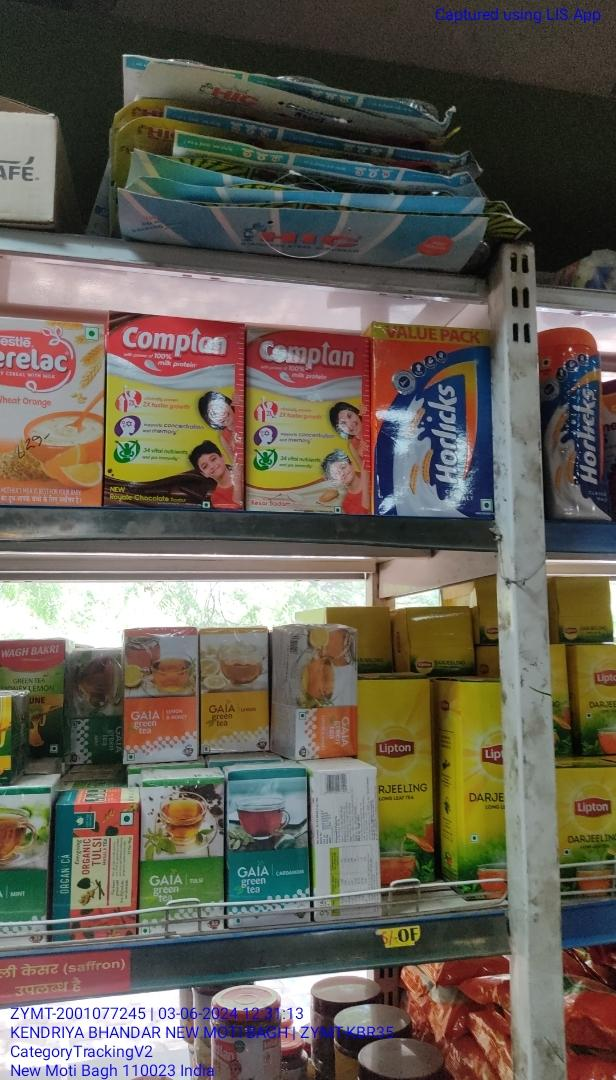HORLICK_CLASSIC_MALT_500_G_JAR: (539, 326, 602, 518)
